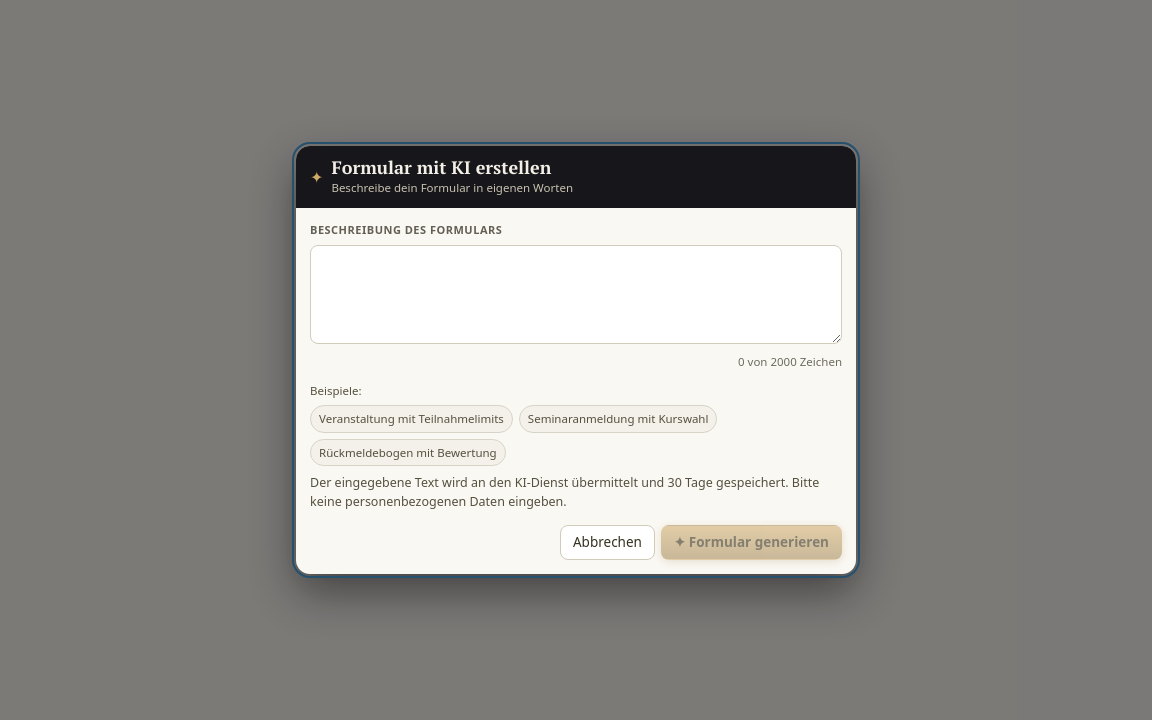
Test case: AiFormDialog — the evidence: the result is a preview › names pages, questions and types, and offers Übernehmen and Verwerfen
Step 1. Type "Anmeldung mit Kontaktfeldern" into the text box labelled "Beschreibung des Formulars" → (576, 294), box [310, 245, 842, 344]
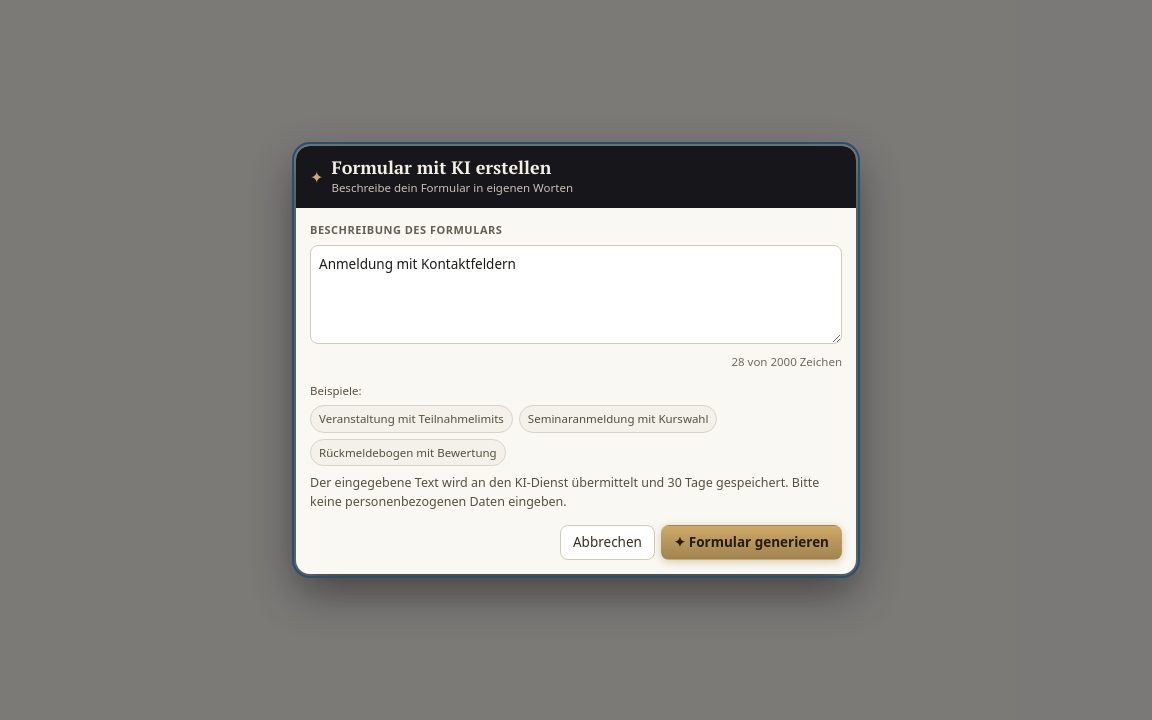
Step 2. Click the button "✦ Formular generieren" → click(751, 543), box [661, 526, 842, 560]
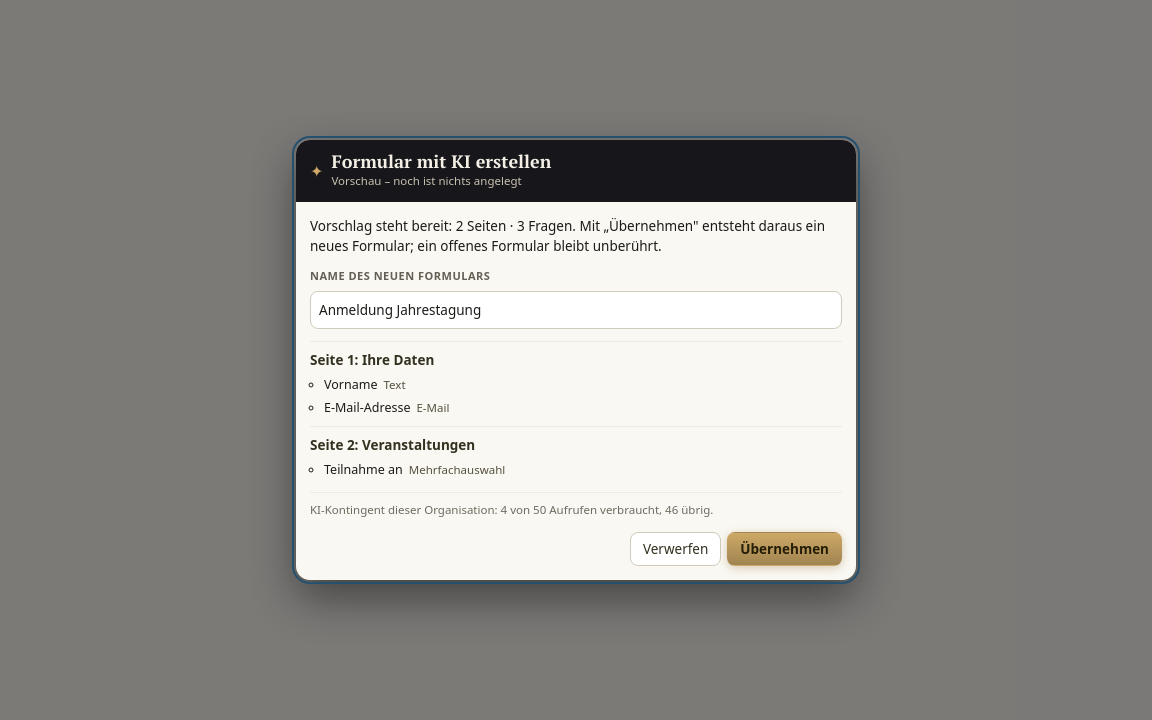
Now the text "Seite 1: Ihre Daten" is shown, box [310, 351, 434, 369]
Now the text "Seite 2: Veranstaltungen" is shown, box [310, 436, 475, 454]
Now the text "Vorname" is shown, box [324, 376, 378, 393]
